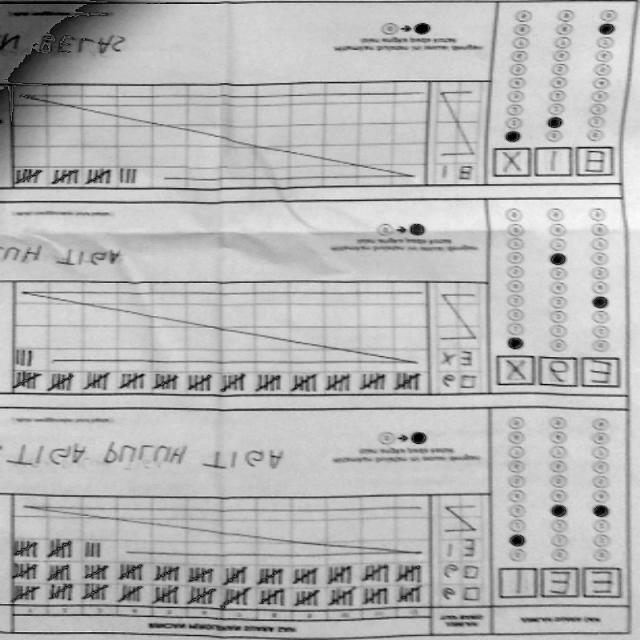Suara: (489, 144, 622, 184), (494, 564, 626, 604), (492, 353, 624, 393)
